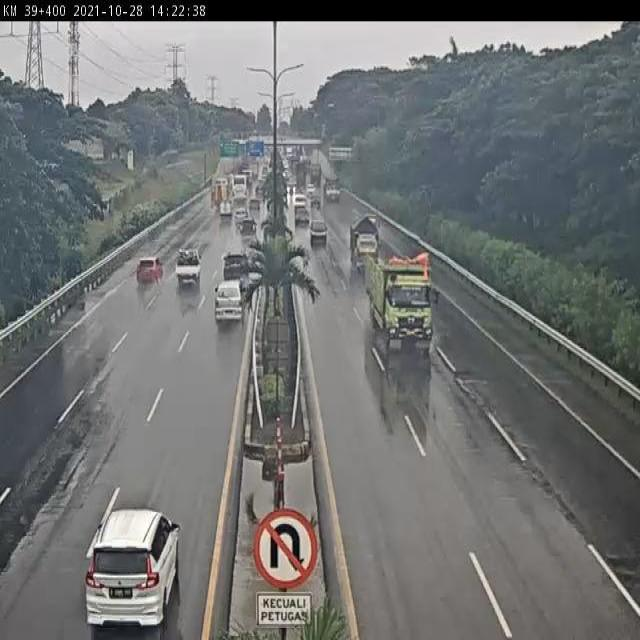car: (86, 509, 180, 627), (175, 246, 201, 282)
truck-l-: (361, 251, 433, 353)
truck-s-: (350, 212, 384, 277)
